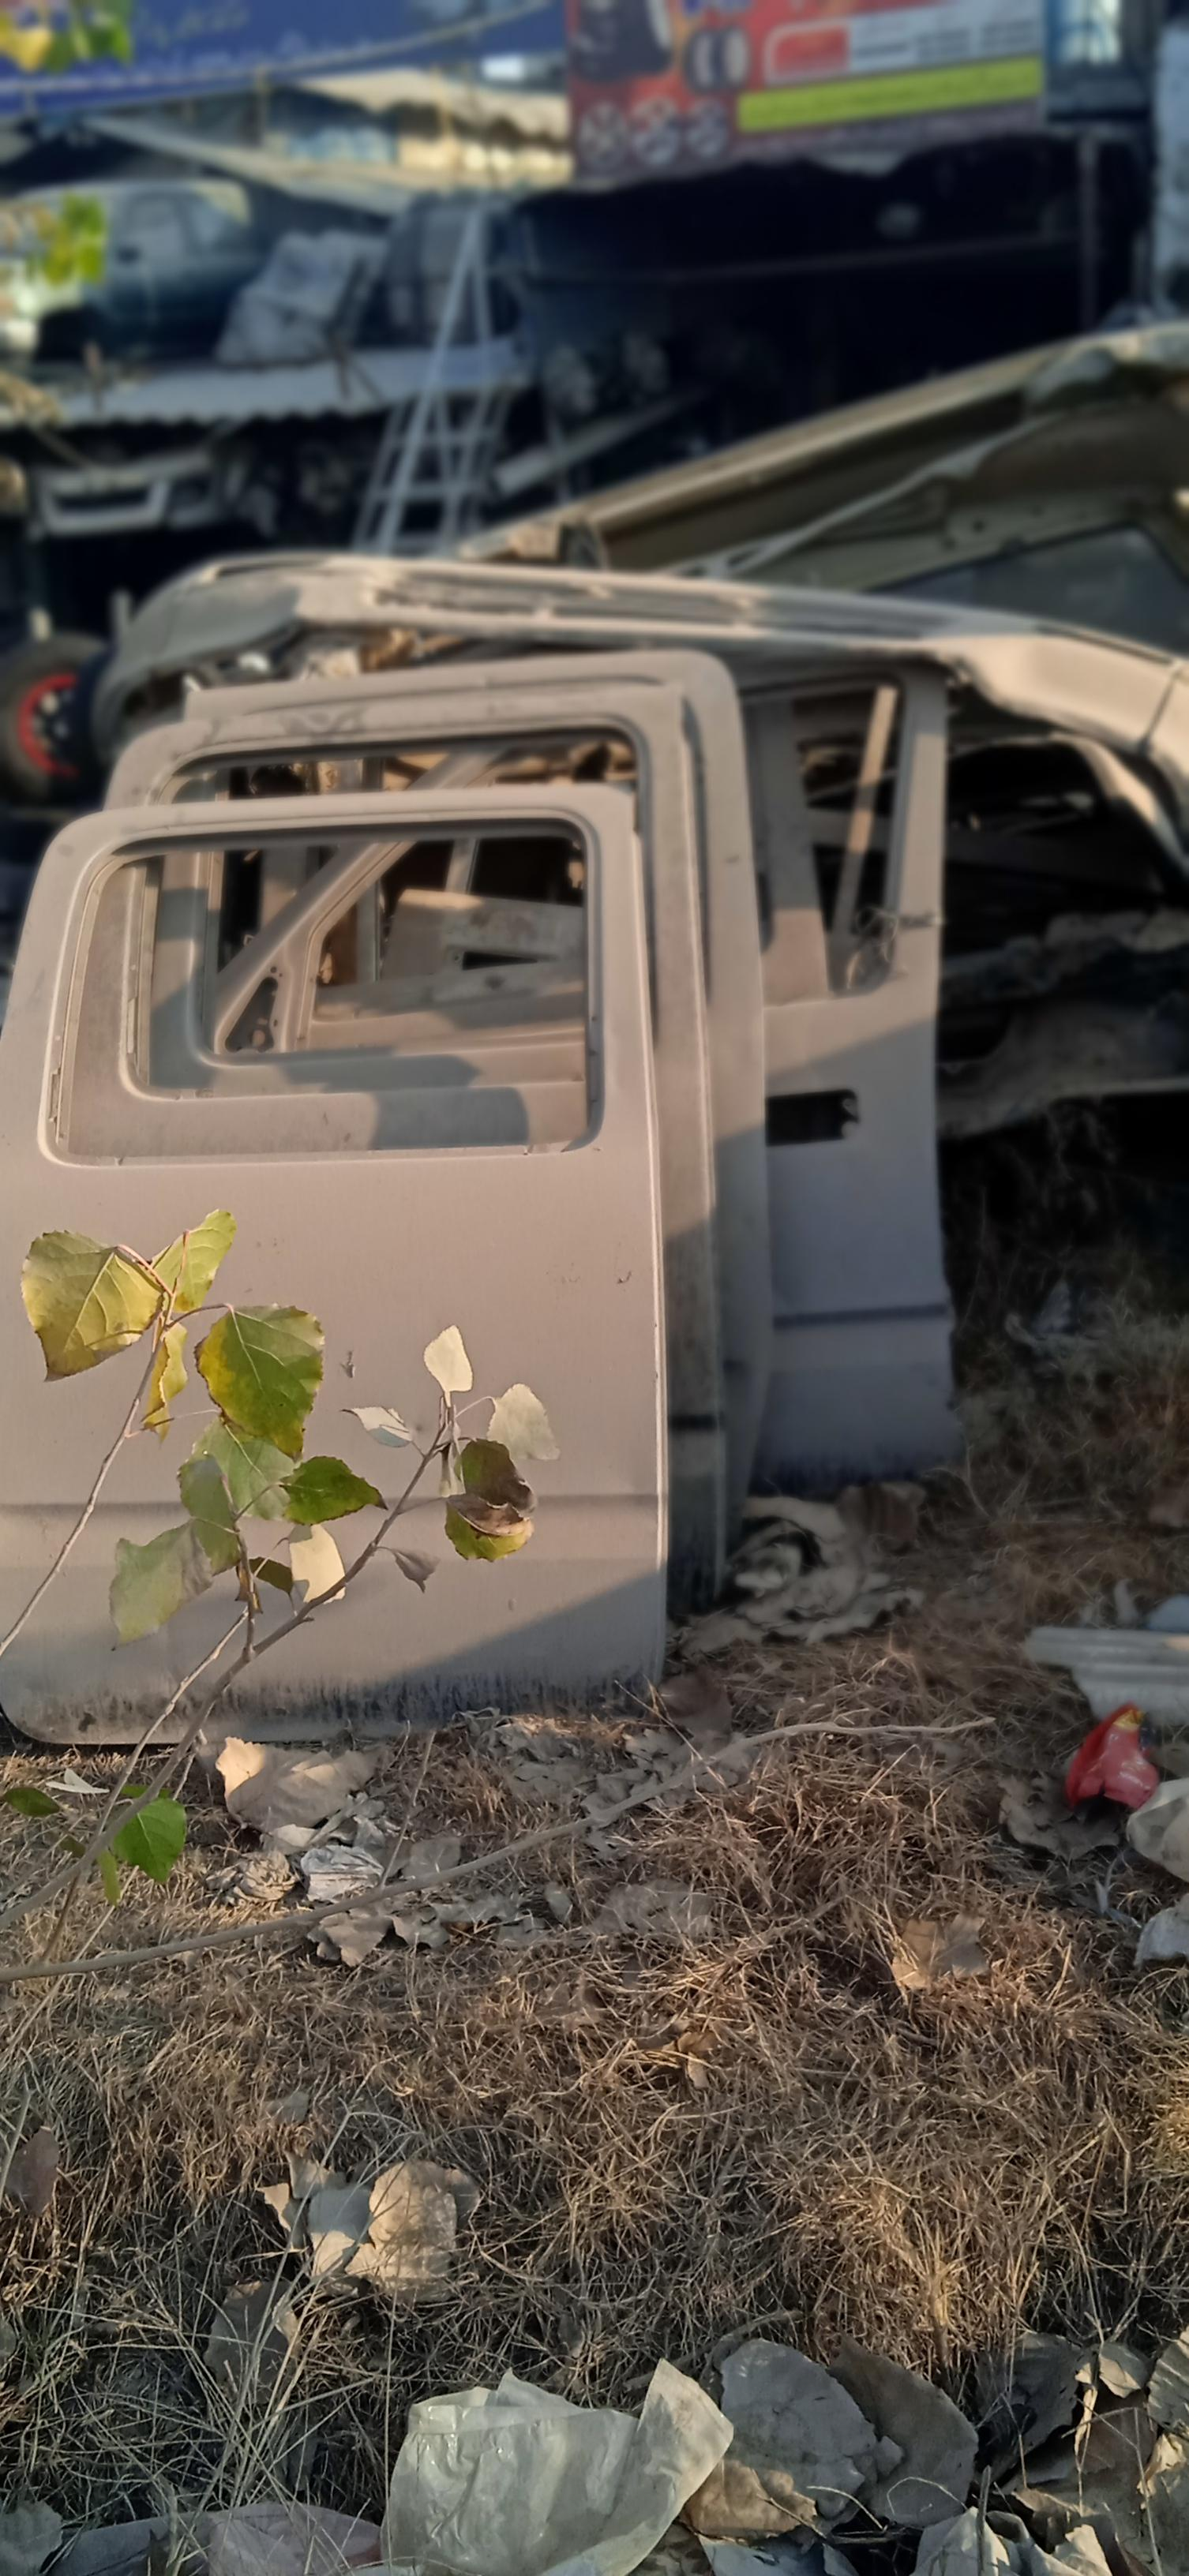automobile: (0, 554, 1189, 1743)
